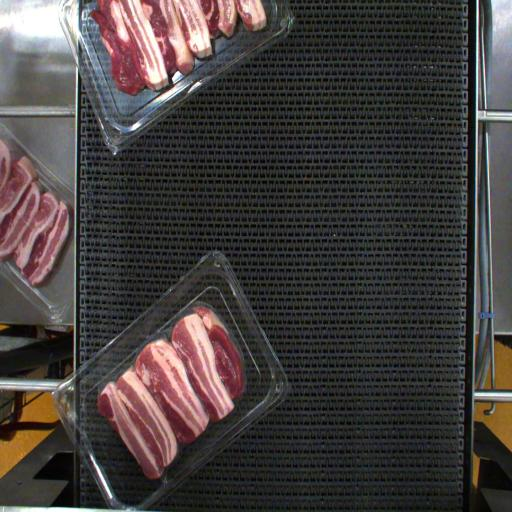unsealed: (93, 296, 258, 420)
